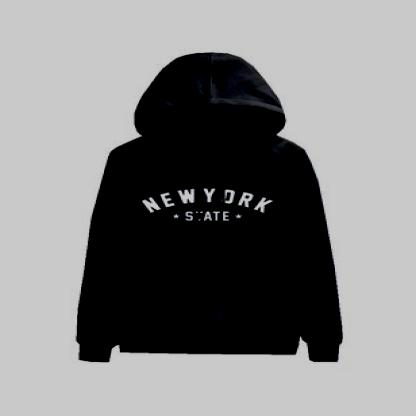dress: (47, 37, 378, 362)
